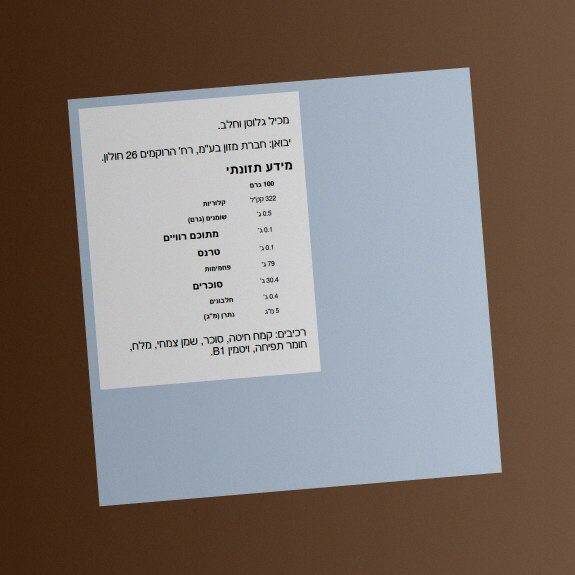carbs: (260, 260, 276, 269)
energy: (249, 194, 277, 205)
fat: (256, 209, 273, 219)
protein: (262, 292, 279, 301)
